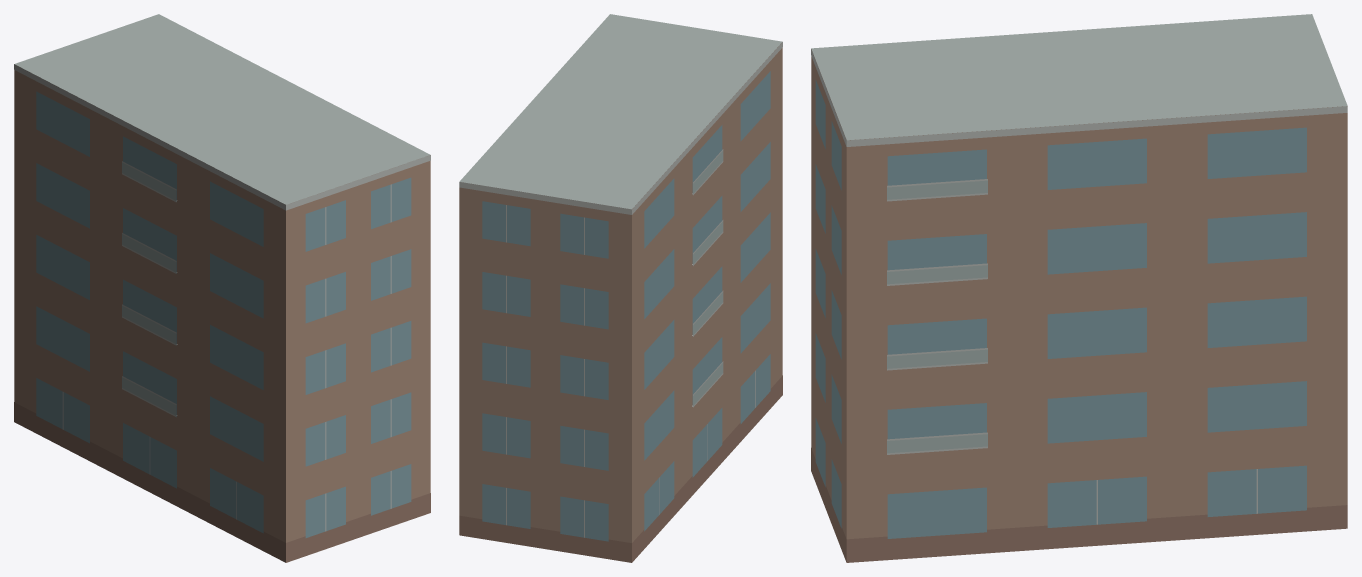
File: survey-upis-32621285.glb
The picture shows the model from 3 angles, left to right: view 1: azimuth 30°, elevation 25°; view 2: azimuth 150°, elevation 25°; view 3: azimuth 270°, elevation 25°; orthographic projection. The views are drawn at different scales.
Parts seen in each view (by area): view 1: survey-upis-32621285.tmp; view 2: survey-upis-32621285.tmp; view 3: survey-upis-32621285.tmp.
Part boxes in pixels (bbox=[...]): survey-upis-32621285.tmp: bbox=[14, 14, 430, 562]; survey-upis-32621285.tmp: bbox=[459, 14, 782, 562]; survey-upis-32621285.tmp: bbox=[811, 14, 1347, 562].
Size of the model in its own units: 9.75 by 15.2 by 17.51.
